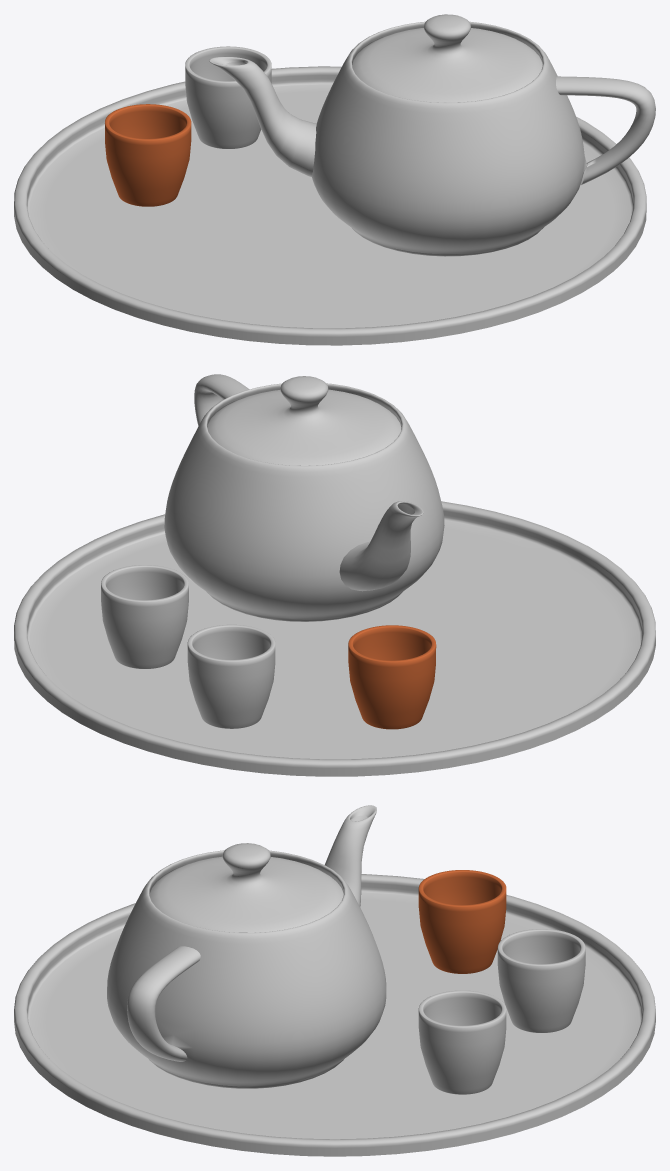
File: teapot_n_glass.obj
3 renders of one model, top to bottom at view 1: azimuth 30°, elevation 25°; view 2: azimuth 150°, elevation 25°; view 3: azimuth 270°, elevation 25°, orthographic.
Parts seen in each view (by area): view 1: Circle_None, Teapot_None, Cylinder.002_None # pot to the right, Cylinder_None; view 2: Circle_None, Teapot_None, Cylinder_None, Cylinder.002_None # pot to the right, Cylinder.001_None; view 3: Circle_None, Teapot_None, Cylinder.001_None, Cylinder_None, Cylinder.002_None # pot to the right.
Part boxes in pixels (<box>): Circle_None: <box>14,66,646,345</box>; Teapot_None: <box>209,14,655,256</box>; Cylinder.002_None # pot to the right: <box>105,104,191,206</box>; Cylinder_None: <box>185,46,271,148</box>; Circle_None: <box>14,501,655,776</box>; Teapot_None: <box>164,374,444,621</box>; Cylinder_None: <box>187,624,275,728</box>; Cylinder.002_None # pot to the right: <box>348,625,436,729</box>; Cylinder.001_None: <box>101,565,188,668</box>; Circle_None: <box>14,874,655,1156</box>; Teapot_None: <box>107,805,386,1088</box>; Cylinder.001_None: <box>418,990,506,1094</box>; Cylinder_None: <box>497,929,585,1032</box>; Cylinder.002_None # pot to the right: <box>418,870,506,973</box>.
Size of the model in its own units: 9.04 by 3.24 by 9.04.
